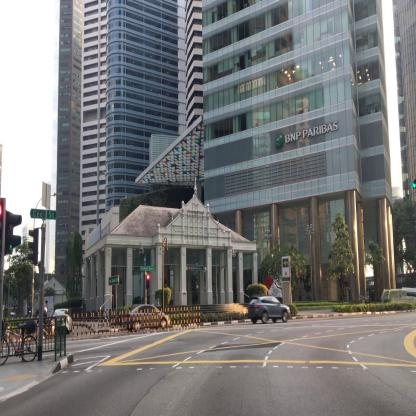red_traffic_light: (146, 274, 149, 288)
